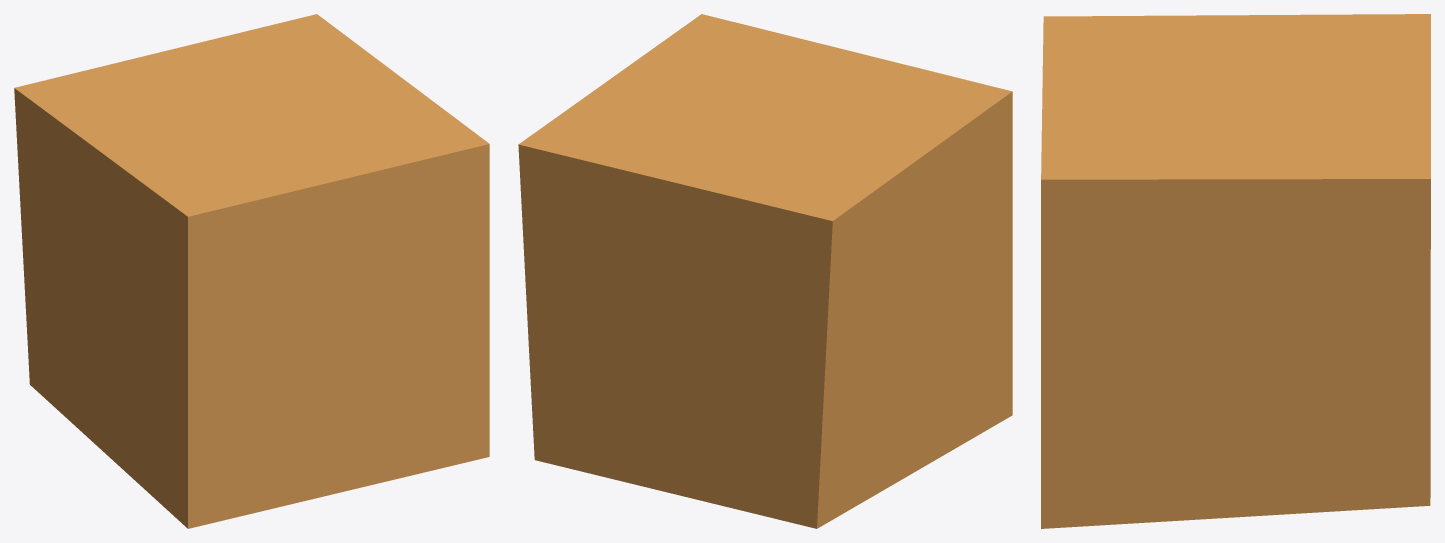
The model's file is tile_2.glb.
3 views of the same model, side by side, from view 1: azimuth 30°, elevation 25°; view 2: azimuth 150°, elevation 25°; view 3: azimuth 270°, elevation 25° (orthographic). The views are drawn at different scales.
Parts seen in each view (by area): view 1: Block; view 2: Block; view 3: Block.
Boxes of the visible parts, <box> form: Block: <box>14,14,489,528</box>; Block: <box>518,14,1012,528</box>; Block: <box>1041,14,1430,528</box>.
Size of what is drawn, in the model's own units: 2 by 1.99 by 2.
